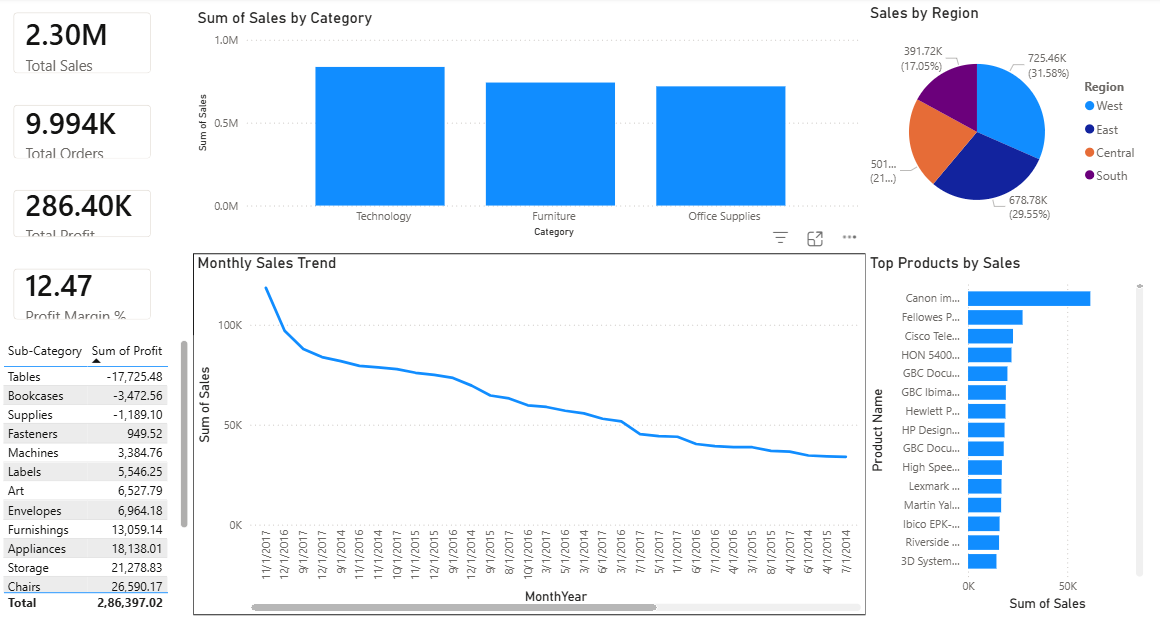

The dashboard page shown, as its layout file describes it:
{"tool":"powerbi","page":{"name":"Page 1","canvas":[1280,720],"ordinal":0},"visuals":[{"type":"cardVisual","fields":{"Data":["Superstore_Cleaned_Dataset.Total Sales"]},"box":[0,0,185.2,101.5],"z":0},{"type":"cardVisual","fields":{"Data":["Superstore_Cleaned_Dataset.Total Orders"]},"box":[0,101.5,185.2,93.3],"z":1},{"type":"cardVisual","fields":{"Data":["Superstore_Cleaned_Dataset.Total Profit"]},"box":[0,194.9,185.2,86.4],"z":2},{"type":"clusteredColumnChart","fields":{"Category":["Superstore_Cleaned_Dataset.Category"],"Y":["Sum(Superstore_Cleaned_Dataset.Sales)"]},"box":[214.1,12.3,738.3,256.6],"z":3},{"type":"lineChart","title":"Monthly Sales Trend","fields":{"Category":["Superstore_Cleaned_Dataset.MonthYear"],"Y":["Sum(Superstore_Cleaned_Dataset.Sales)"]},"box":[214.1,281.3,738.3,397.9],"z":4},{"type":"pieChart","title":"Sales by Region","fields":{"Category":["Superstore_Cleaned_Dataset.Region"],"Y":["Sum(Superstore_Cleaned_Dataset.Sales)"]},"box":[952.3,6.9,310.1,262.1],"z":5},{"type":"tableEx","fields":{"Values":["Superstore_Cleaned_Dataset.Sub-Category","Sum(Superstore_Cleaned_Dataset.Profit)"]},"box":[0,371.9,214.1,307.4],"z":6},{"type":"clusteredBarChart","title":"Top Products by Sales","fields":{"Category":["Superstore_Cleaned_Dataset.Product Name"],"Y":["Sum(Superstore_Cleaned_Dataset.Sales)"]},"box":[952.3,281.3,310.1,397.9],"z":8},{"type":"cardVisual","fields":{"Data":["Superstore_Cleaned_Dataset.Profit Margin %"]},"box":[0,281.3,185.2,90.6],"z":9}]}

Visuals, with their boxes in screenshot pixels (x1, y1, x2, y2), scaled from the page's 1280x720 canvas onto the 1160x640 screenshot:
cardVisual - Superstore_Cleaned_Dataset.Total Sales: (left=0, top=0, right=168, bottom=90)
cardVisual - Superstore_Cleaned_Dataset.Total Orders: (left=0, top=90, right=168, bottom=173)
cardVisual - Superstore_Cleaned_Dataset.Total Profit: (left=0, top=173, right=168, bottom=250)
clusteredColumnChart - Superstore_Cleaned_Dataset.Category x Sum(Superstore_Cleaned_Dataset.Sales): (left=194, top=11, right=863, bottom=239)
"Monthly Sales Trend" lineChart: (left=194, top=250, right=863, bottom=604)
"Sales by Region" pieChart: (left=863, top=6, right=1144, bottom=239)
tableEx - Superstore_Cleaned_Dataset.Sub-Category x Sum(Superstore_Cleaned_Dataset.Profit): (left=0, top=331, right=194, bottom=604)
"Top Products by Sales" clusteredBarChart: (left=863, top=250, right=1144, bottom=604)
cardVisual - Superstore_Cleaned_Dataset.Profit Margin %: (left=0, top=250, right=168, bottom=331)
